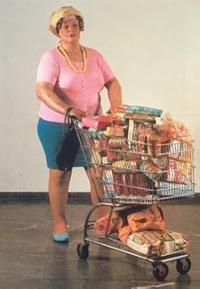person: (34, 5, 123, 242)
